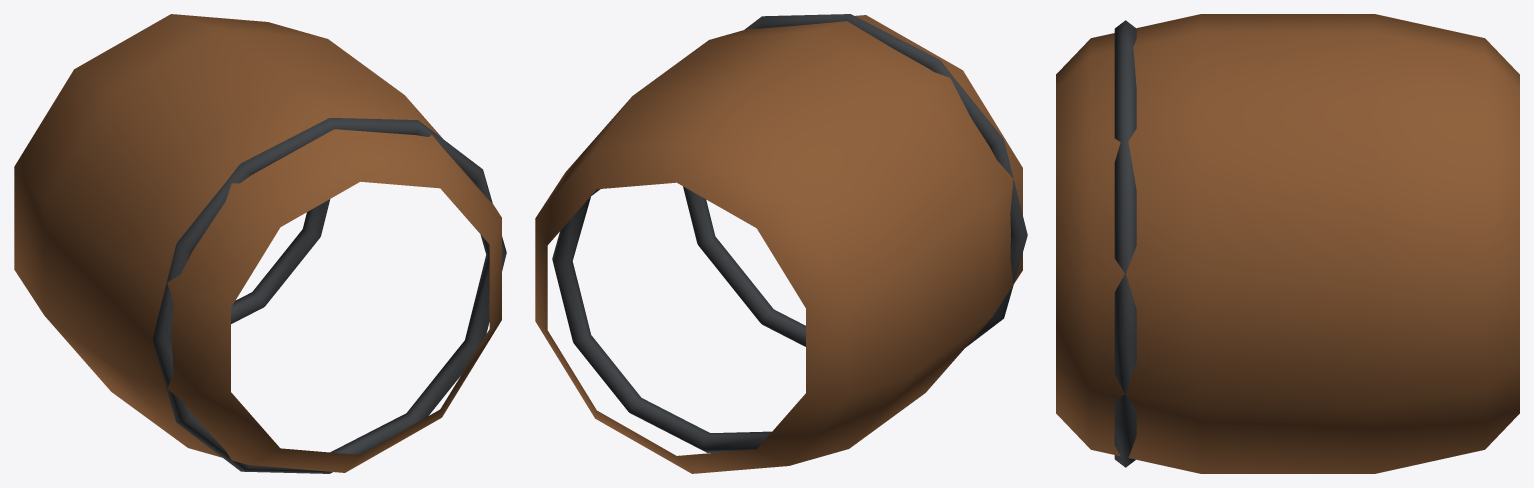
The model's file is barrel.glb.
3 views of the same model, side by side, from view 1: azimuth 30°, elevation 25°; view 2: azimuth 150°, elevation 25°; view 3: azimuth 270°, elevation 25° (orthographic). The views are drawn at different scales.
Size of the model in its own units: 1 by 1 by 1.
